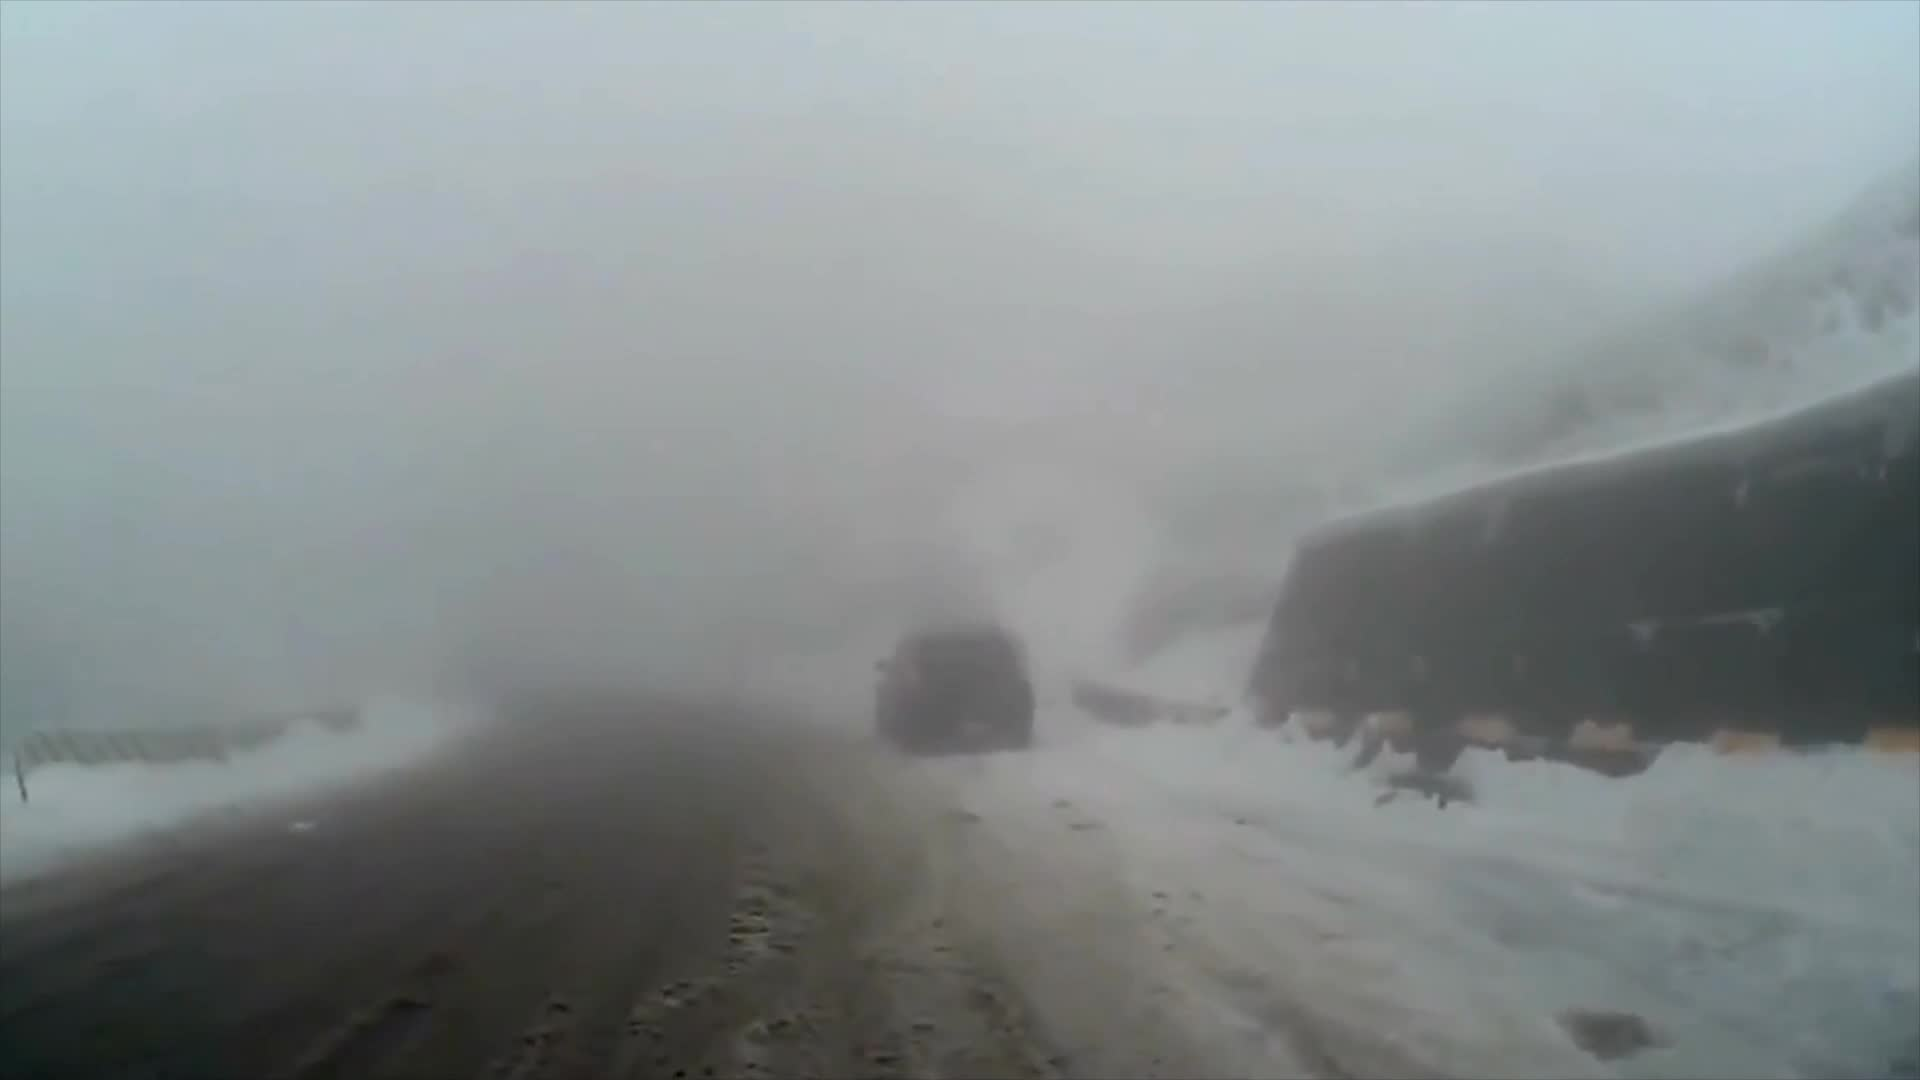vehicle: (868, 615, 1031, 753)
